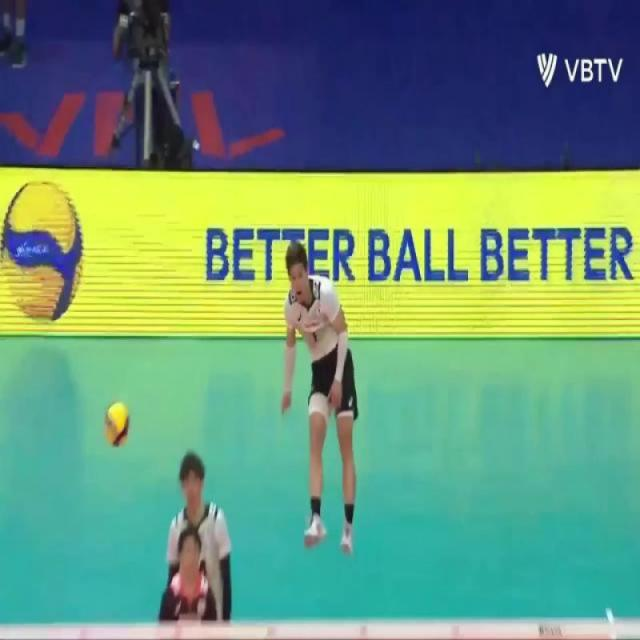volleyball: (0, 176, 86, 327), (102, 398, 132, 451)
